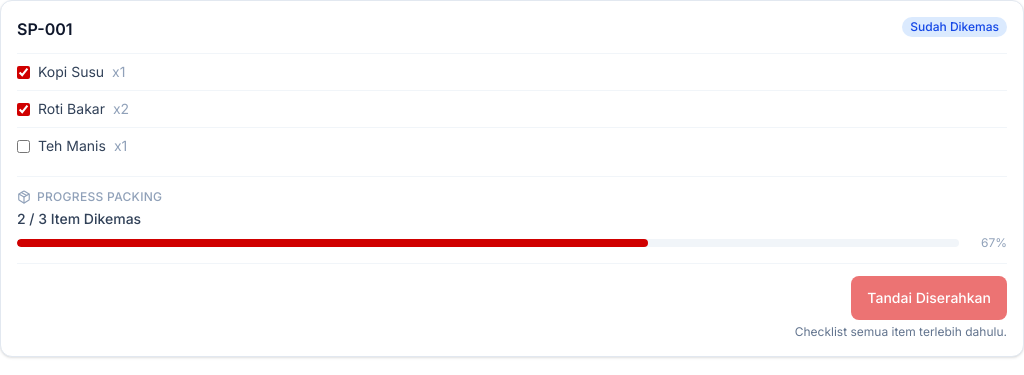
it: Progress Packing (Task 5) › centang item terakhir -- progress 2/3 jadi 3/3 dan tombol berubah dari disabled jadi enabled, tanpa refresh manual
Expected: the button "Tandai Diserahkan" is disabled, [851,276,1007,320]
Click the checkbox labelled "Teh Manis x1". click: point(24, 146)
box: [17,140,30,152]
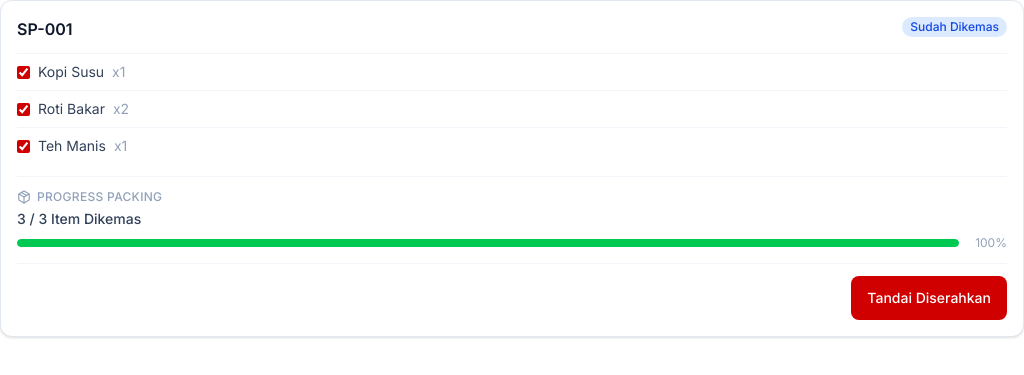
Expected: the text "3 / 3 Item Dikemas" is shown, [17,210,141,227]
Expected: the button "Tandai Diserahkan" is enabled, [851,276,1007,320]
Expected: the text "Checklist semua item terlebih dahulu." is gone
